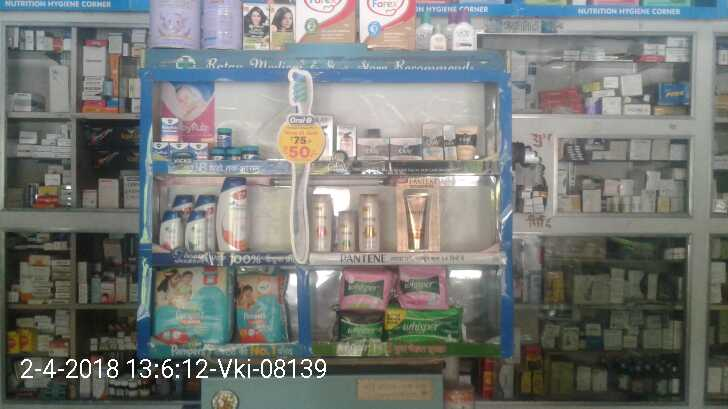vicks: (153, 112, 258, 161)
